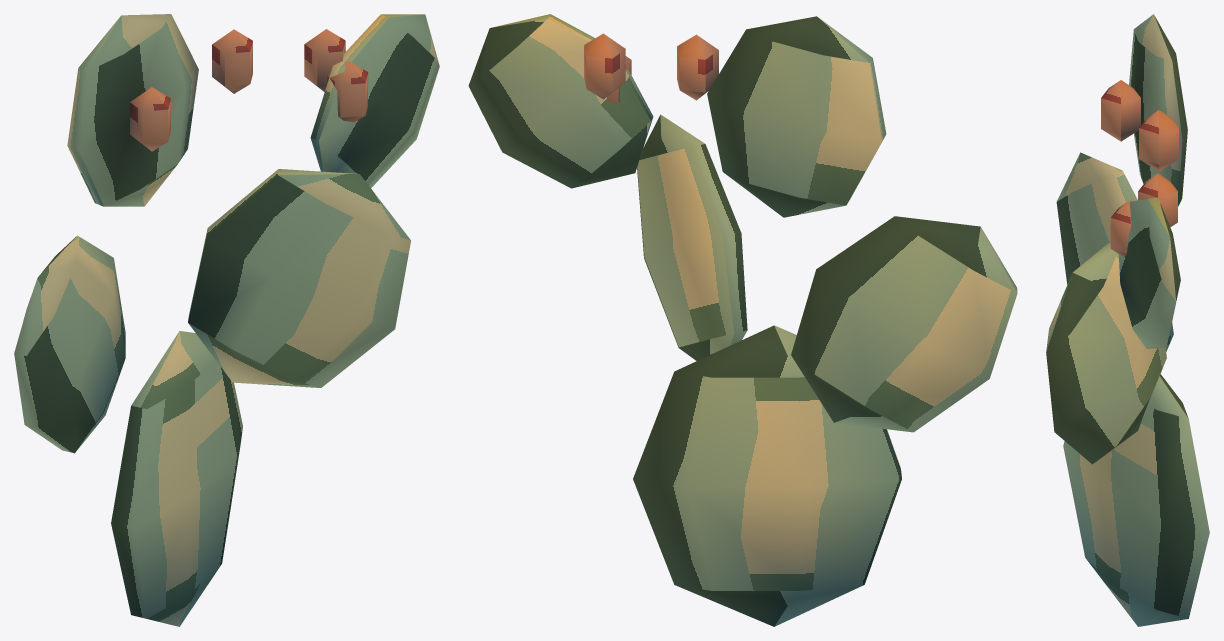
File: wprop.cactus__prickly.glb
3 views of the same model, side by side, from view 1: azimuth 30°, elevation 25°; view 2: azimuth 150°, elevation 25°; view 3: azimuth 270°, elevation 25° (orthographic). The views are drawn at different scales.
Visible parts, largest first — view 1: kit_pads, kit_fruit; view 2: kit_pads, kit_fruit; view 3: kit_pads, kit_fruit.
Part boxes in pixels (x1=…): kit_pads: x1=14, y1=14, x2=439, y2=626; kit_fruit: x1=130, y1=29, x2=368, y2=151; kit_pads: x1=468, y1=14, x2=1017, y2=626; kit_fruit: x1=584, y1=33, x2=718, y2=103; kit_pads: x1=1046, y1=14, x2=1209, y2=626; kit_fruit: x1=1101, y1=80, x2=1178, y2=256.
Size of the model in its own units: 1.09 by 1.34 by 0.336.
Materials: 2 (2 with a texture image).
